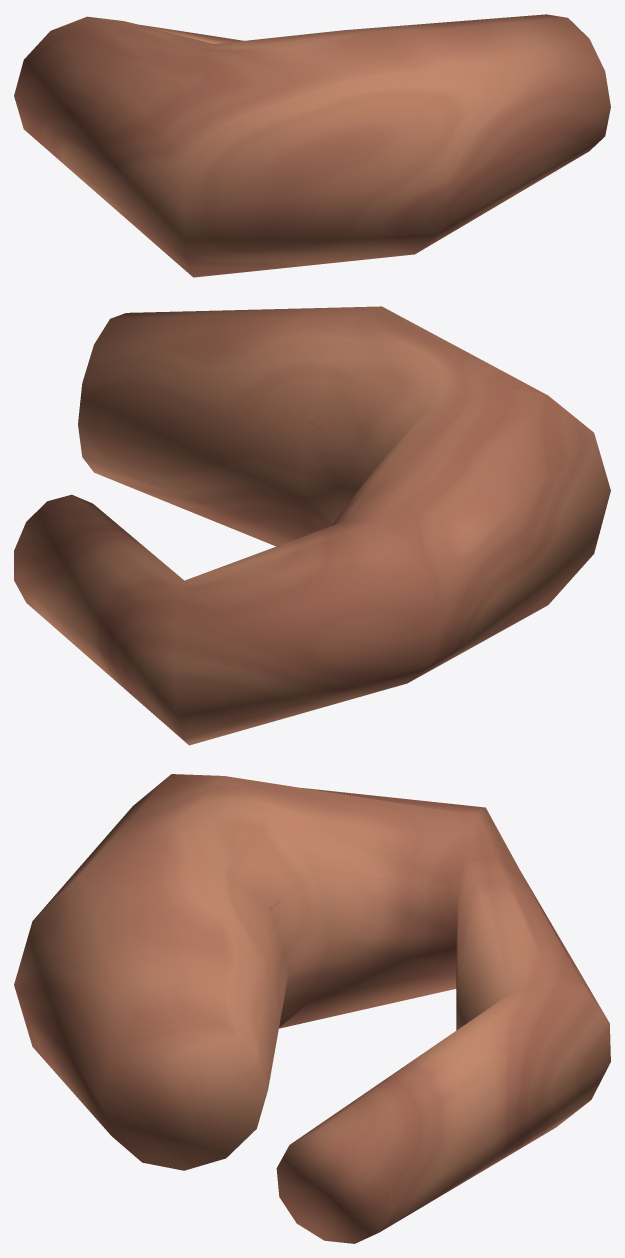
The model's file is isaw 1.fbx.
The picture shows the model from 3 angles, top to bottom: view 1: azimuth 30°, elevation 25°; view 2: azimuth 150°, elevation 25°; view 3: azimuth 270°, elevation 25°; orthographic projection. The views are drawn at different scales.
Parts seen in each view (by area): view 1: isaw 1; view 2: isaw 1; view 3: isaw 1.
Part boxes in pixels (x1,y1,x2,y2): isaw 1: [14, 14, 610, 277]; isaw 1: [14, 306, 610, 745]; isaw 1: [14, 774, 610, 1243].
Bounding box in the file's own units: 20.37 × 10.99 × 19.92.
Materials: 1 (1 with a texture image).
